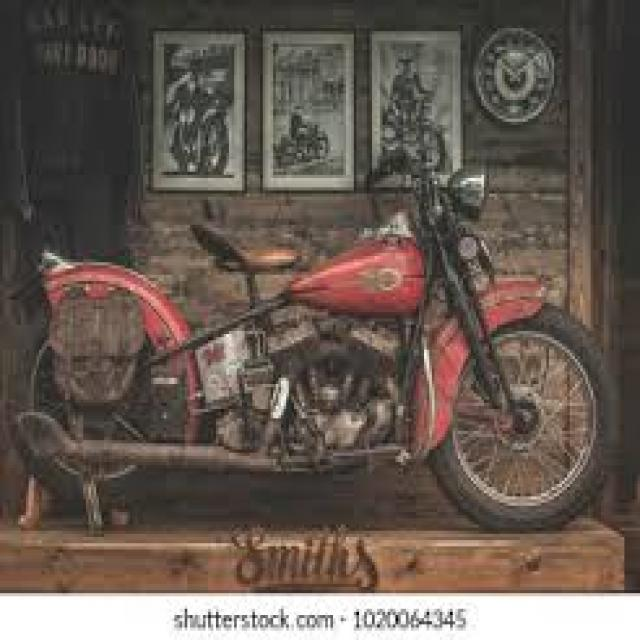Bike: (9, 98, 614, 538)
